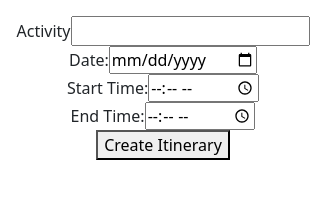
CreateItinerary Component › displays an error message when no activity is provided
Click the button at (163, 145), box [96,130,230,160]
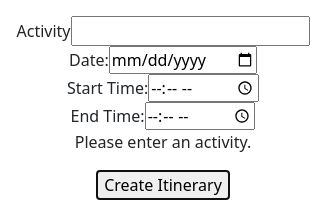
expect the text "Please enter an activity." is shown: met, box [75,131,251,153]
